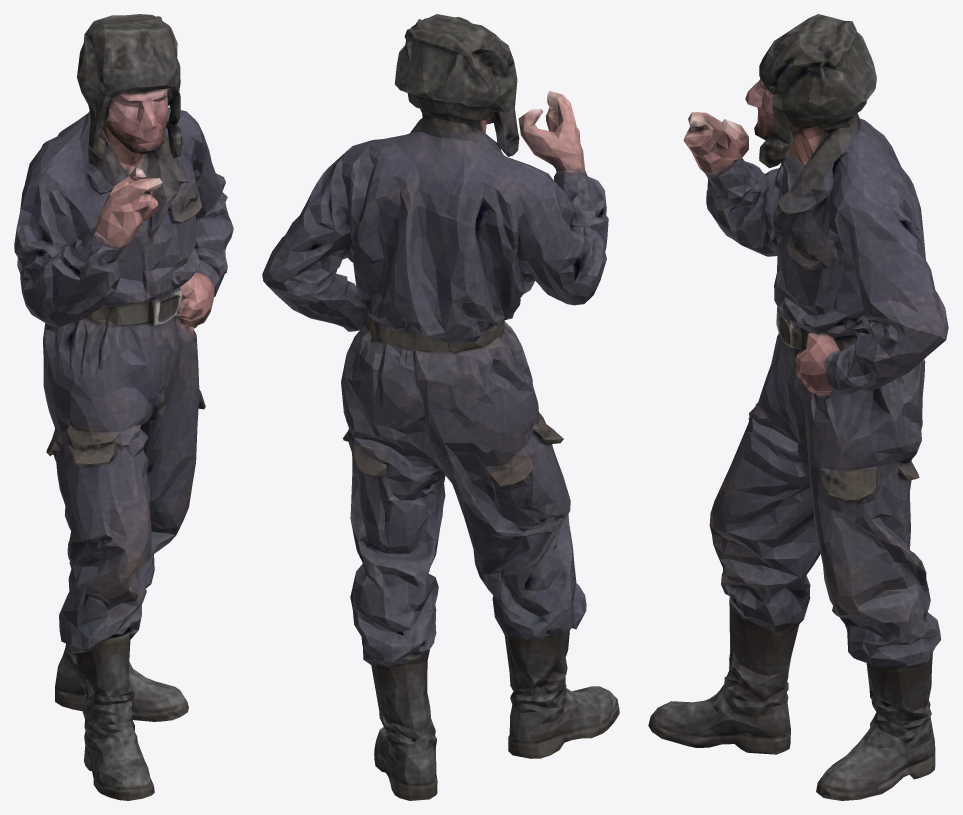
Rendered from crew_su_smoke.obj.
The picture shows the model from 3 angles, left to right: view 1: azimuth 30°, elevation 25°; view 2: azimuth 150°, elevation 25°; view 3: azimuth 270°, elevation 25°; orthographic projection. The views are drawn at different scales.
Visible parts, largest first — view 1: crew_su_smoke; view 2: crew_su_smoke; view 3: crew_su_smoke.
Boxes of the visible parts, x1,y1,x2,y2 form: crew_su_smoke: [14, 14, 233, 800]; crew_su_smoke: [262, 14, 619, 800]; crew_su_smoke: [648, 14, 948, 800].
Bounding box in the file's own units: 0.6804 × 1.8 × 0.6576.
Materials: 1 (1 with a texture image).
